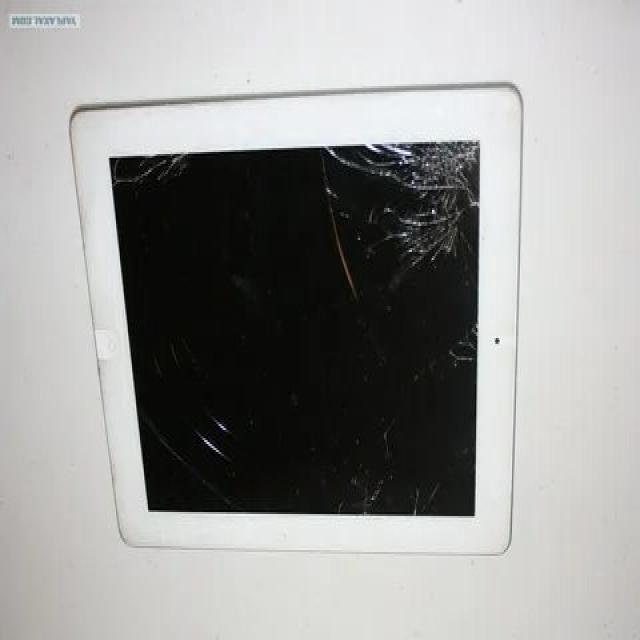Crack: (292, 290, 573, 564), (304, 70, 569, 282), (66, 93, 267, 253)
Scratches: (147, 405, 255, 474)
